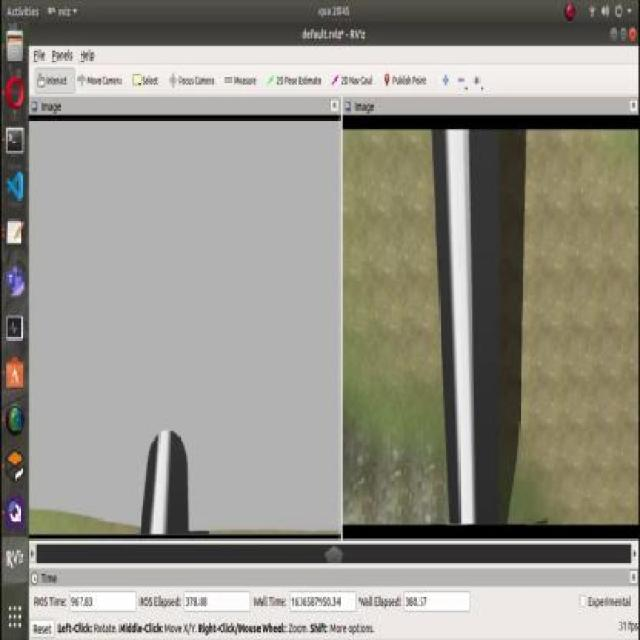gas: (432, 132, 491, 523), (142, 427, 187, 538)
